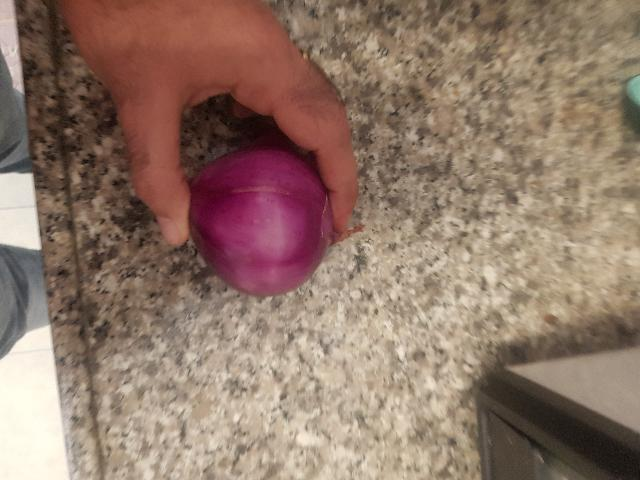onion: (312, 312, 447, 449)
